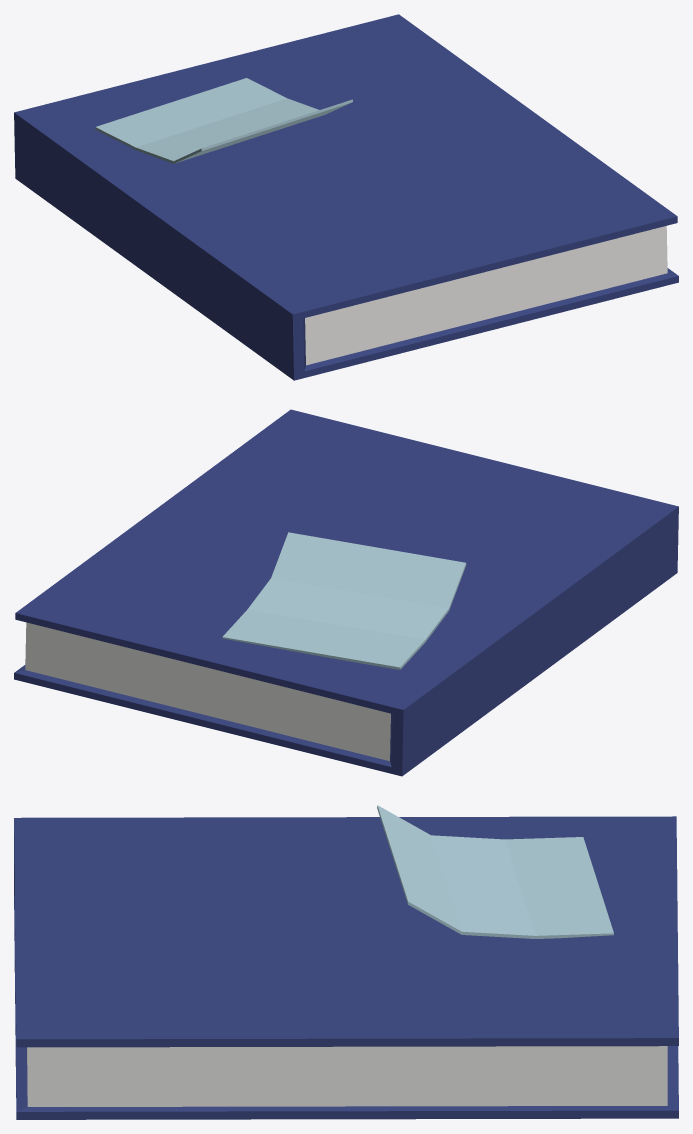
The model's file is Book_3.fbx.
3 renders of one model, top to bottom at view 1: azimuth 30°, elevation 25°; view 2: azimuth 150°, elevation 25°; view 3: azimuth 270°, elevation 25°, orthographic. The views are drawn at different scales.
Visible parts, largest first — view 1: Book_3; view 2: Book_3; view 3: Book_3.
Part boxes in pixels (box(x1,y1,x2,y2)): Book_3: box(14, 14, 678, 380); Book_3: box(14, 409, 678, 776); Book_3: box(14, 805, 678, 1119).
Size of the model in its own units: 22.36 by 27.61 by 5.86.
